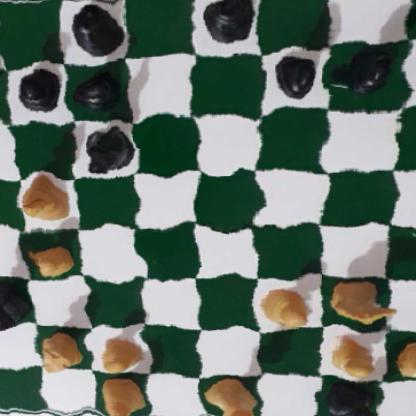black-bishop: (64, 0, 126, 57), (318, 377, 379, 416)
black-king: (200, 0, 258, 50)
black-knight: (79, 119, 134, 174)
black-pawn: (340, 45, 400, 95), (13, 66, 60, 115), (74, 64, 120, 112), (272, 54, 318, 98)
black-queen: (0, 282, 34, 334)
black-rook: (414, 0, 416, 30)
white-bishop: (21, 181, 72, 225), (101, 375, 144, 416)
white-king: (205, 378, 255, 416)
white-knight: (325, 280, 403, 322)
white-pawn: (324, 332, 376, 378), (263, 284, 311, 333), (23, 242, 75, 280), (95, 332, 138, 373), (393, 342, 416, 384)
white-rook: (34, 323, 88, 376)
